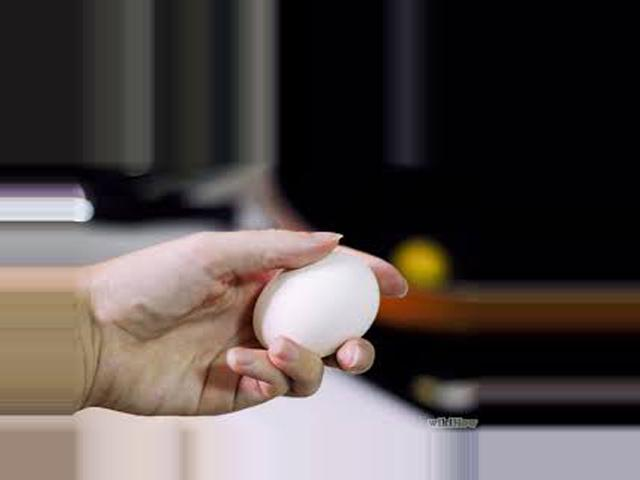egg: (254, 253, 381, 356)
